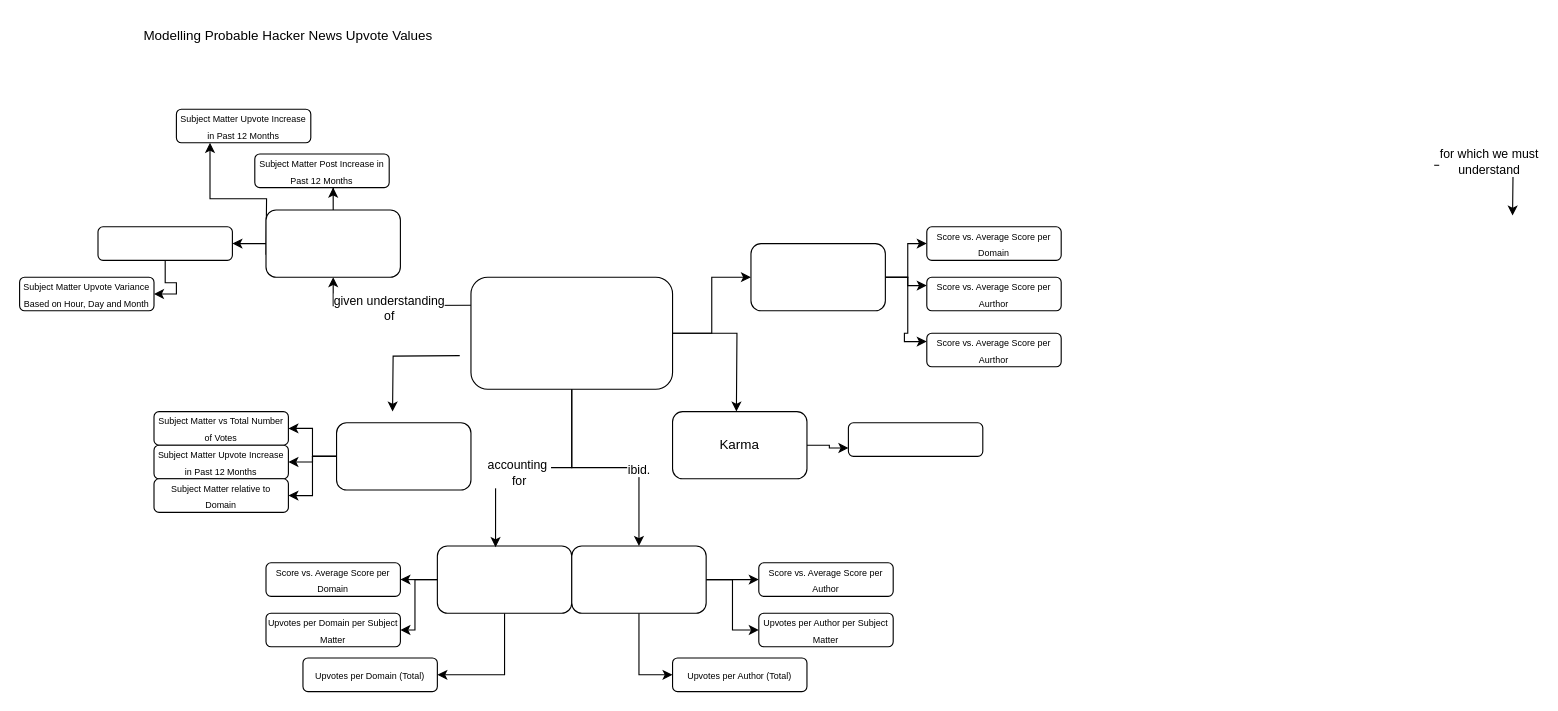
The diagram is 1558 pixels wide and 711 high, and some of its shapes have lost their labels. The shapes that lost their labels are listed below. From the top down, each one's centre as x and y in pixels, then its label:
At (164,243): "Upvote Variance Based on Hour, Day and Month".
At (332,243): "Post Date".
At (817,276): "Score (Article)".
At (571,332): "Predicting Title Score based on...".
At (403,456): "Subject Matter".
At (915,439): "User Karma".
At (504,579): "Domain".
At (638,579): "Author".
